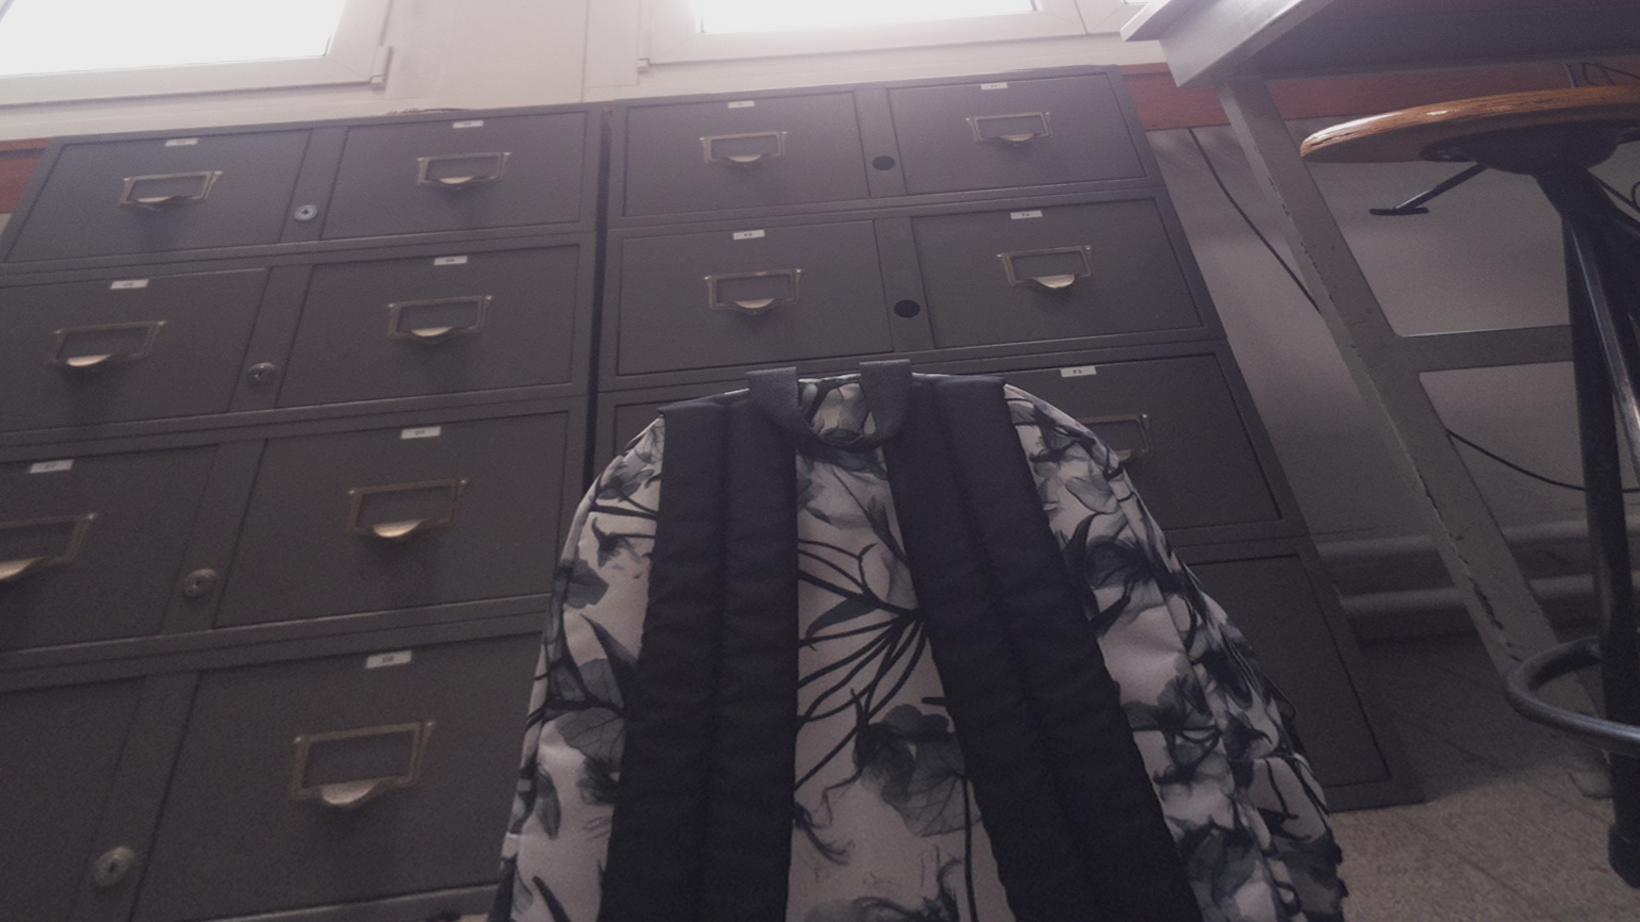big: (520, 364, 1346, 922)
